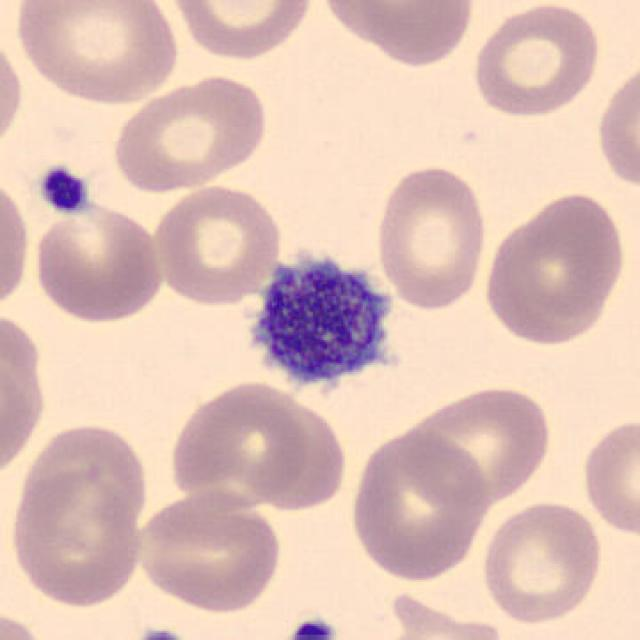Platelets: (244, 249, 394, 391), (36, 162, 90, 215), (284, 615, 340, 640), (132, 626, 194, 640)
RBC: (478, 185, 630, 347), (345, 425, 492, 583), (5, 455, 146, 610), (165, 377, 315, 513), (108, 72, 272, 194), (404, 379, 554, 508), (133, 486, 284, 614), (9, 0, 185, 108), (12, 418, 153, 546), (372, 161, 491, 312), (29, 198, 167, 324), (150, 182, 284, 306), (478, 497, 606, 626), (468, 0, 602, 120), (316, 0, 479, 63), (164, 0, 318, 62), (0, 305, 52, 485), (578, 411, 638, 541), (592, 56, 640, 194), (380, 594, 512, 640), (0, 168, 34, 319), (0, 28, 27, 159), (0, 604, 50, 640)
